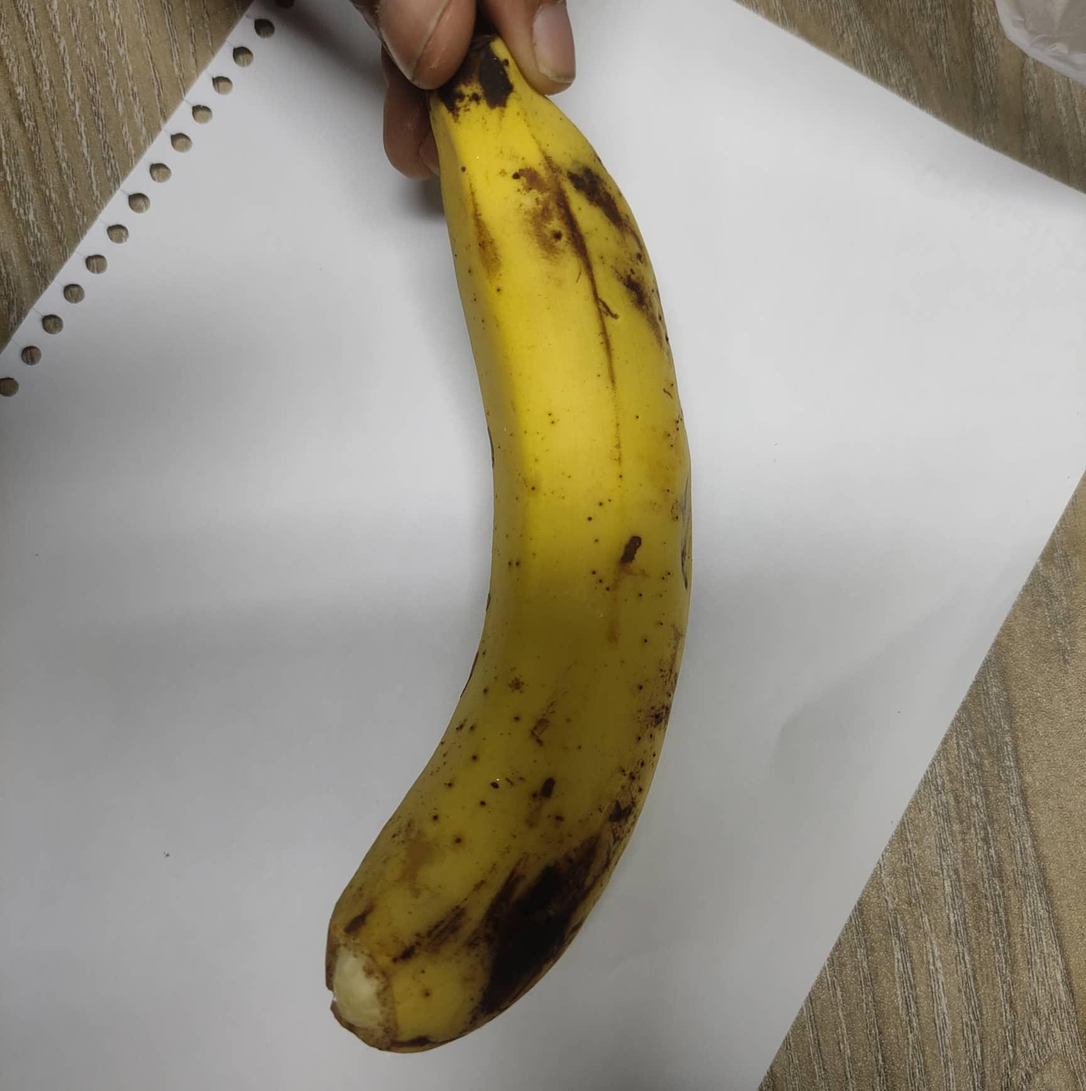Banana Ripe: (310, 64, 745, 1084)
